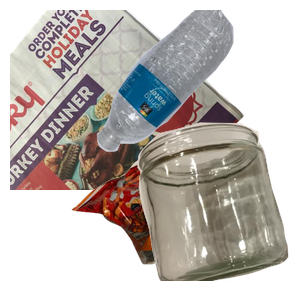glass: (135, 120, 300, 300)
paper: (10, 10, 247, 190)
plastic: (94, 10, 300, 154)
trash: (69, 153, 239, 300)
